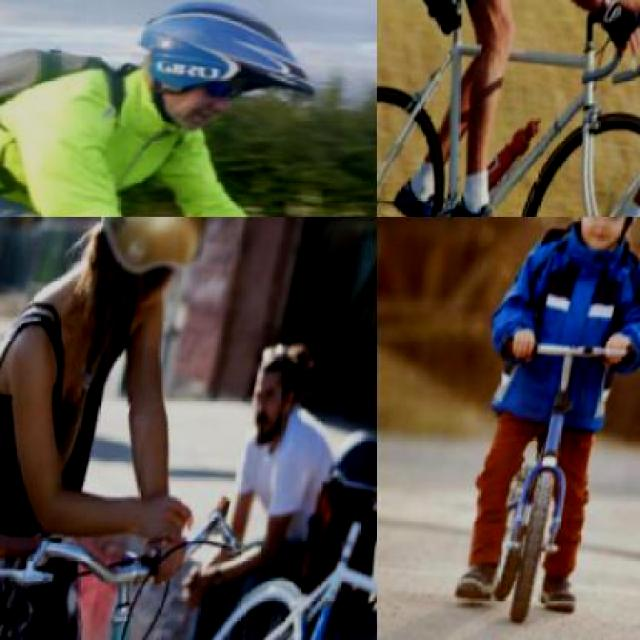With Helmet: (123, 0, 337, 172), (83, 217, 231, 340), (557, 217, 638, 275)
